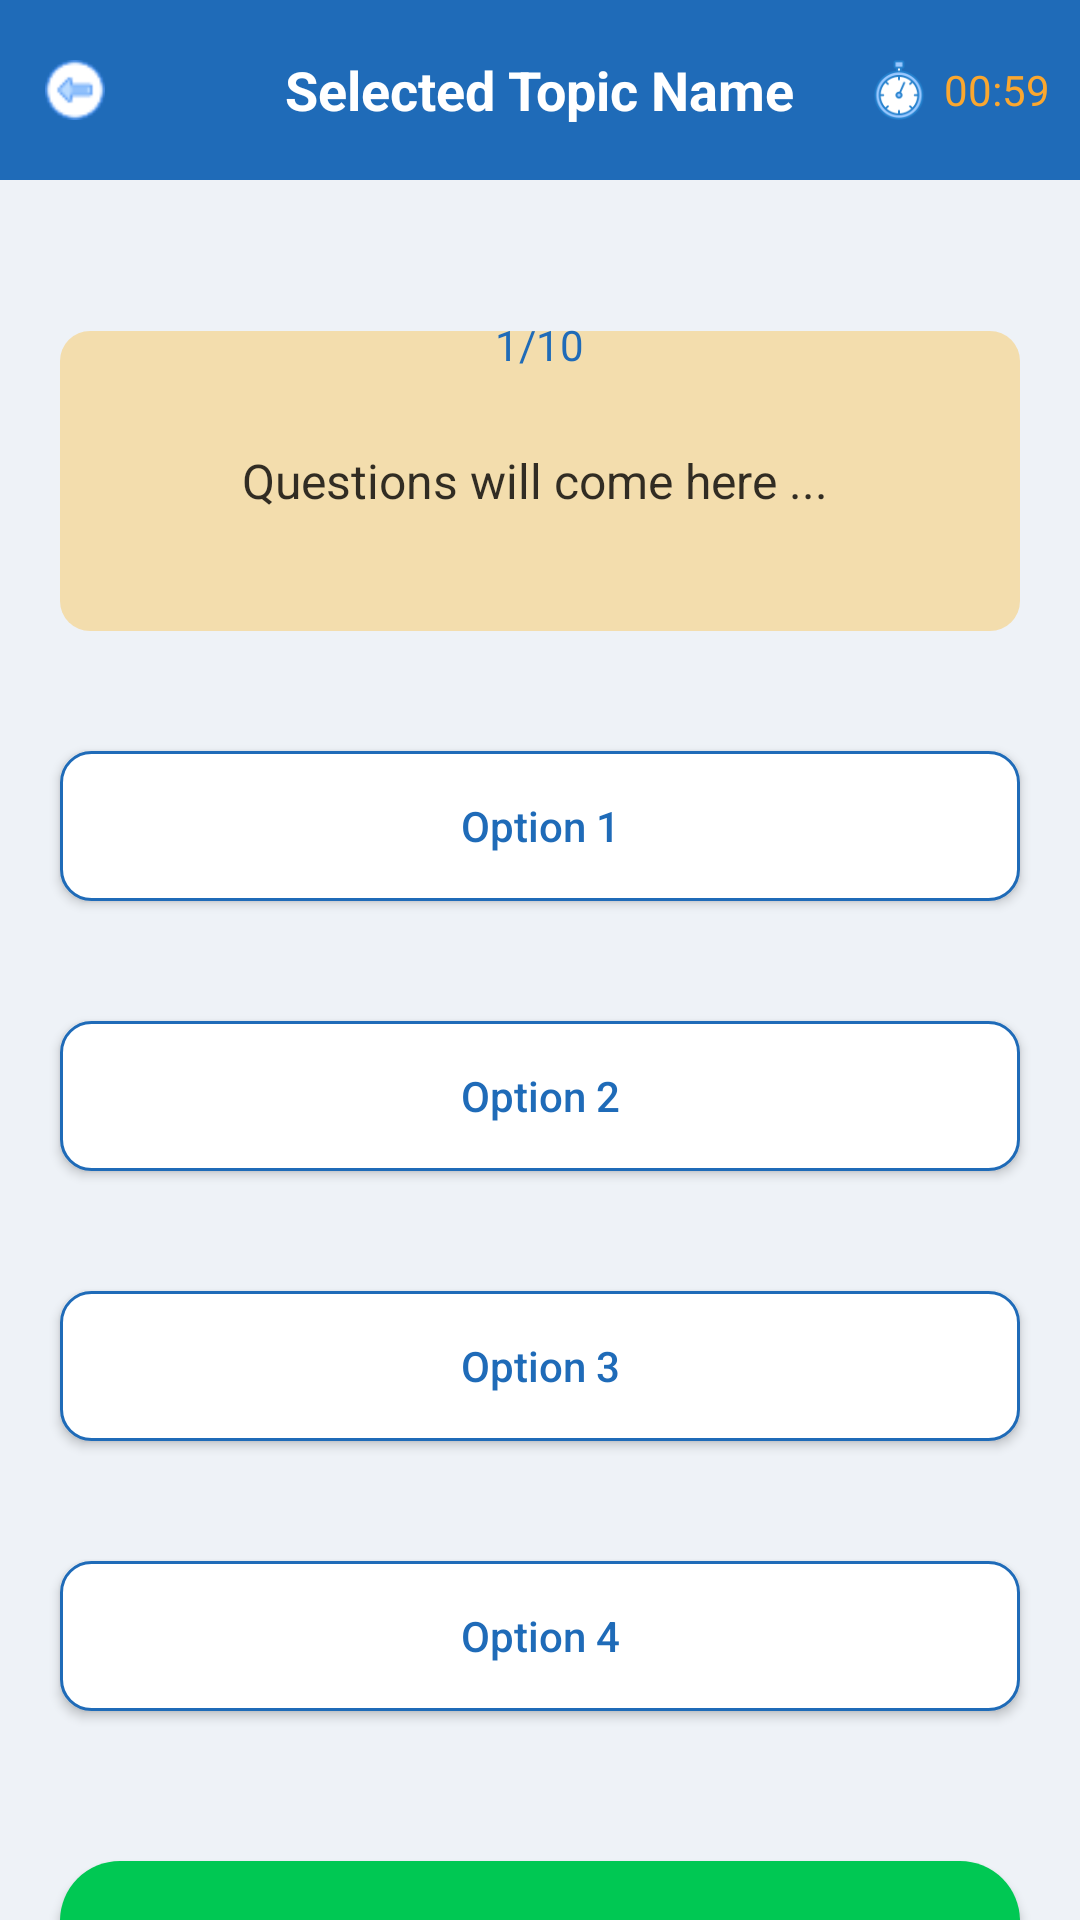

Icon bounding boxes for this 1080 x 1920 phone screenshot, format bbox=[x1, y1, x2, y2]:
back: bbox=[45, 60, 105, 120]
timer: bbox=[875, 61, 923, 119]
